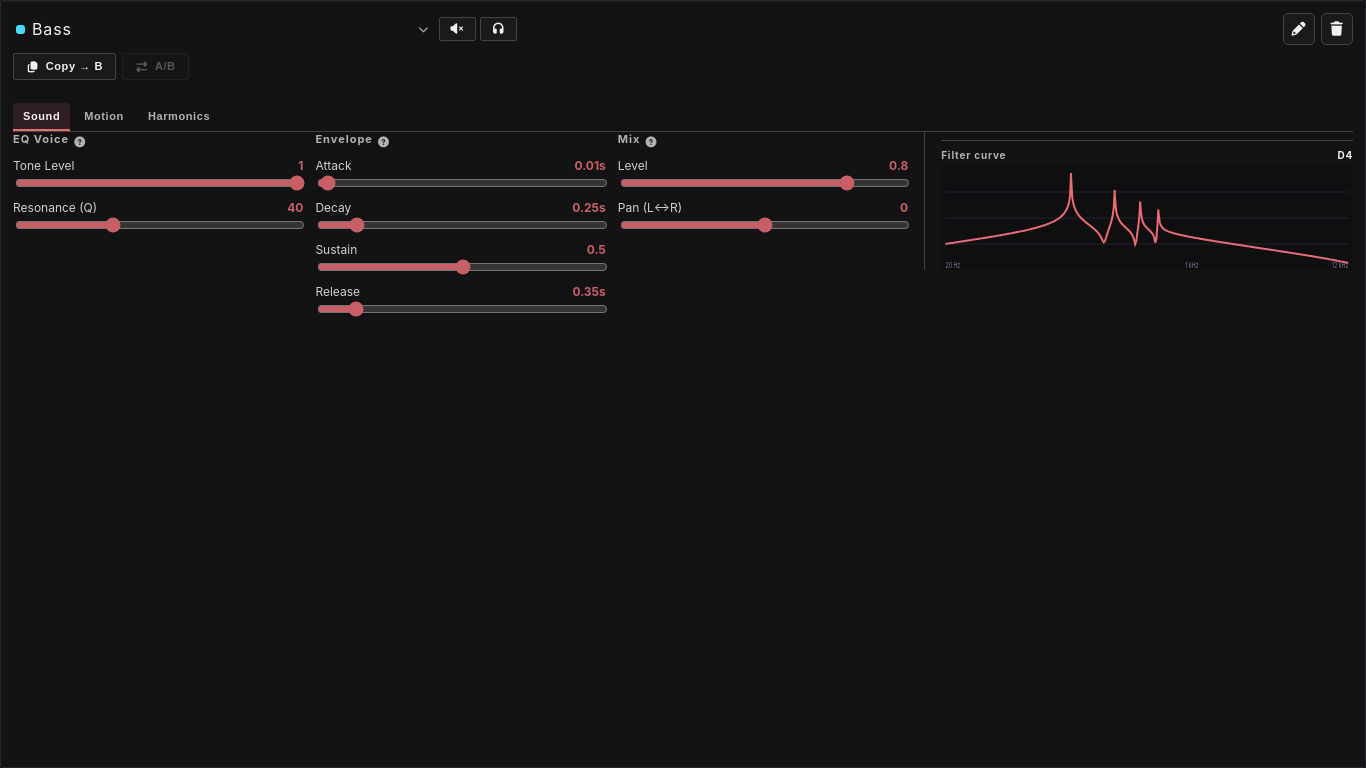
Test case: InstrumentPanel guided editing › switches to harmonics editing while retaining contextual help and filter feedback
Step 1. Click the tab "Harmonics" → click(179, 117), box [138,103,220,131]
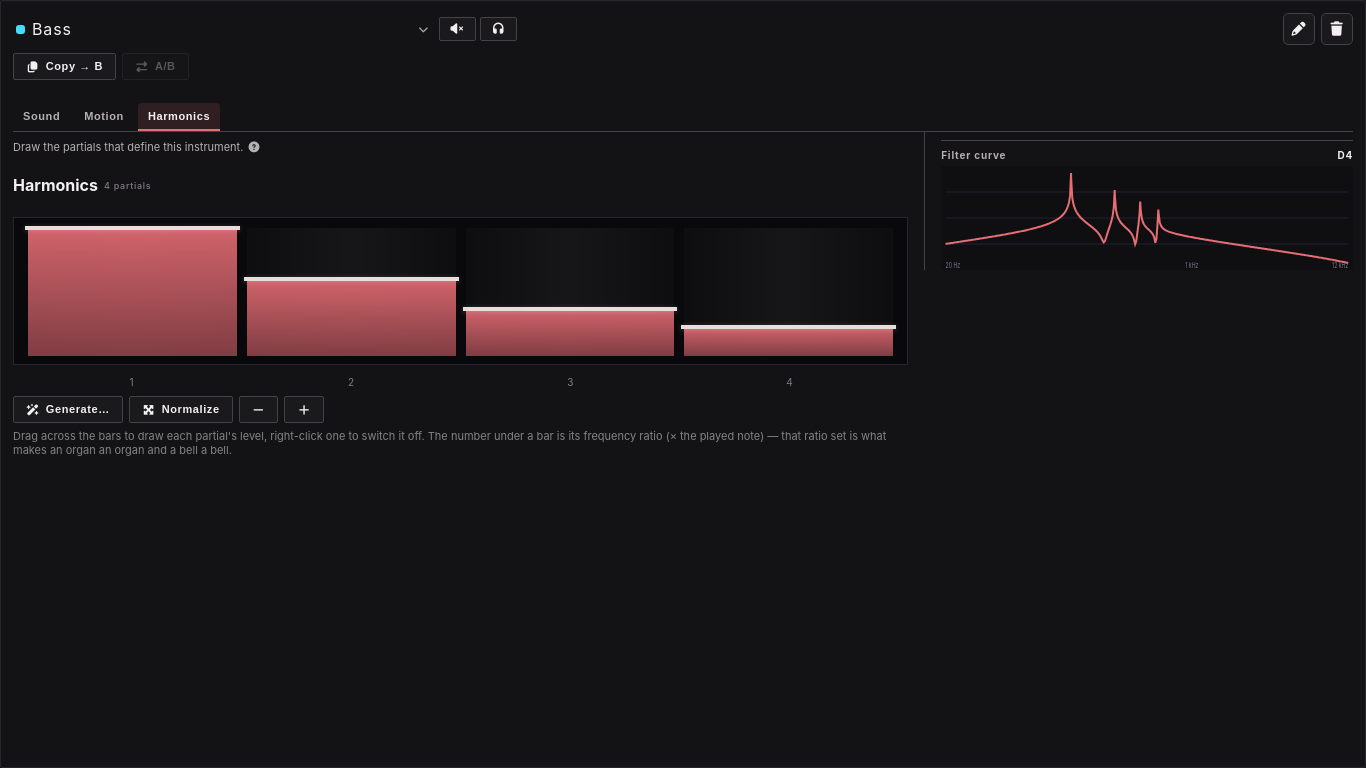
Expected: the element named "Filter response preview" is shown, [941,140,1353,270]
Result: the button named "Learn about Harmonics" is shown at [247,141,261,153]
